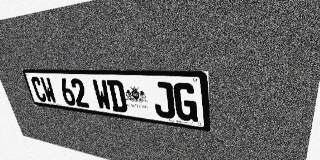2: (70, 78, 89, 108)
6: (58, 78, 77, 106)
C: (30, 77, 48, 102)
D: (106, 80, 128, 113)
G: (173, 82, 198, 122)
J: (152, 81, 176, 119)
W: (91, 79, 113, 111), (39, 77, 58, 104)
